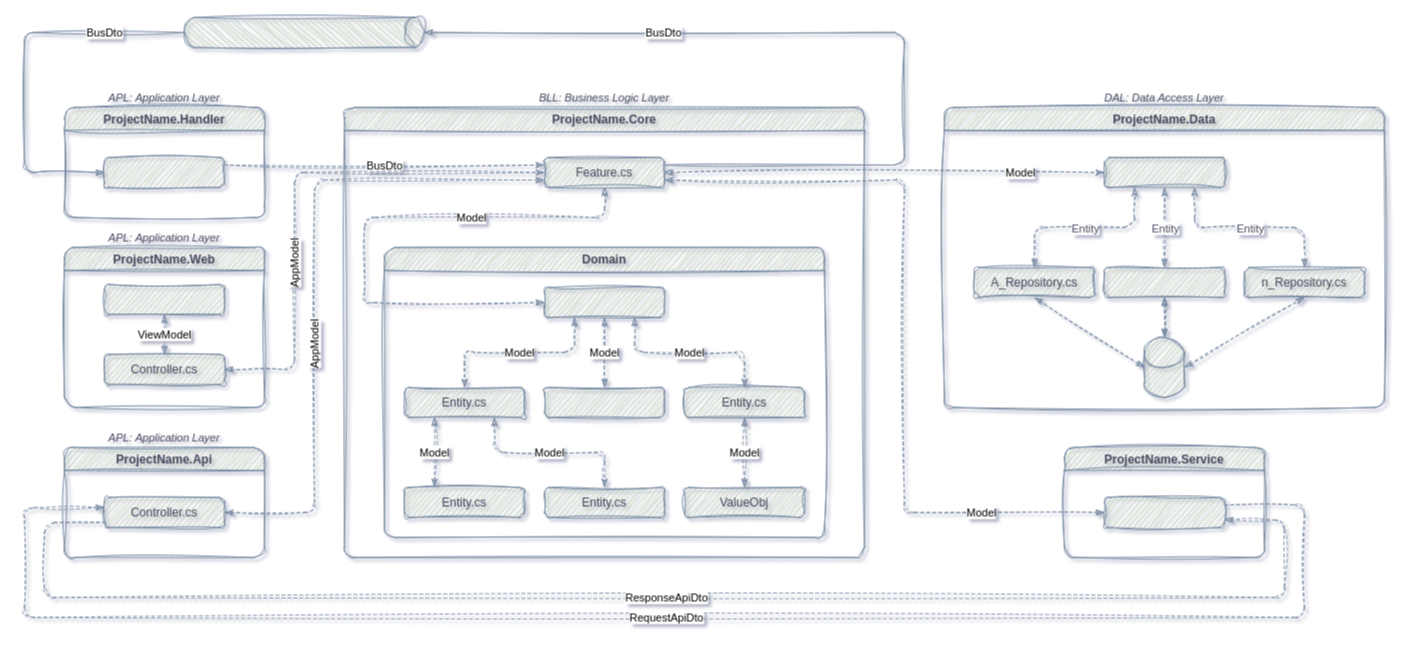
Image size: 1408x649. Some labels were removed from this diagram. Here are the shapes that lost their labels. From the top down, the centre of each, then its label:
the point at 304,32: EVENT BUS
the point at 164,172: Worker.cs
the point at 1164,172: Depot.cs
the point at 164,299: View.cshtml
the point at 604,302: AggregateRoot.cs
the point at 1164,282: B_Repository.cs
the point at 1164,367: DB
the point at 604,402: ValueObj.cs
the point at 1164,512: Service.cs
